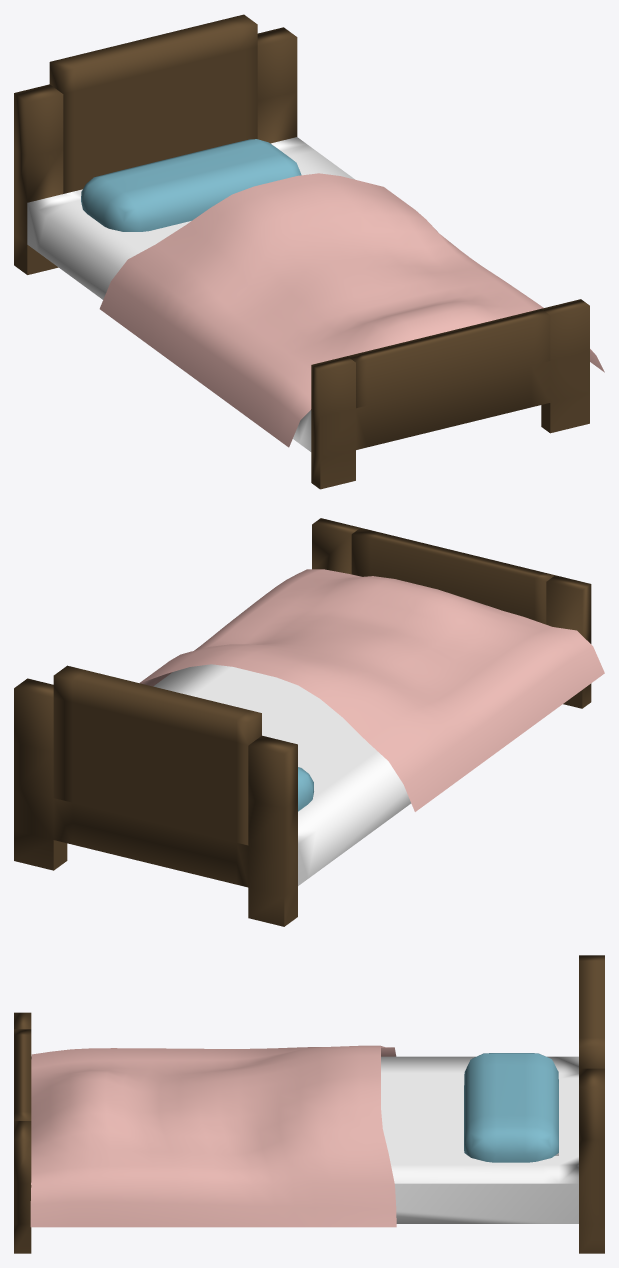
File: litcolor.fbx
3 renders of one model, top to bottom at view 1: azimuth 30°, elevation 25°; view 2: azimuth 150°, elevation 25°; view 3: azimuth 270°, elevation 25°, orthographic. The views are drawn at different scales.
Visible parts, largest first — view 1: pCube1, pPlane1; view 2: pCube1, pPlane1; view 3: pPlane1, pCube1.
Part boxes in pixels (x1,y1,x2,y2): pCube1: (14, 14, 589, 489); pPlane1: (99, 173, 604, 447); pCube1: (14, 518, 591, 926); pPlane1: (139, 569, 604, 811); pPlane1: (30, 1045, 396, 1227); pCube1: (14, 955, 604, 1253).
Size of the model in its own units: 7.15 by 4.21 by 12.01.
